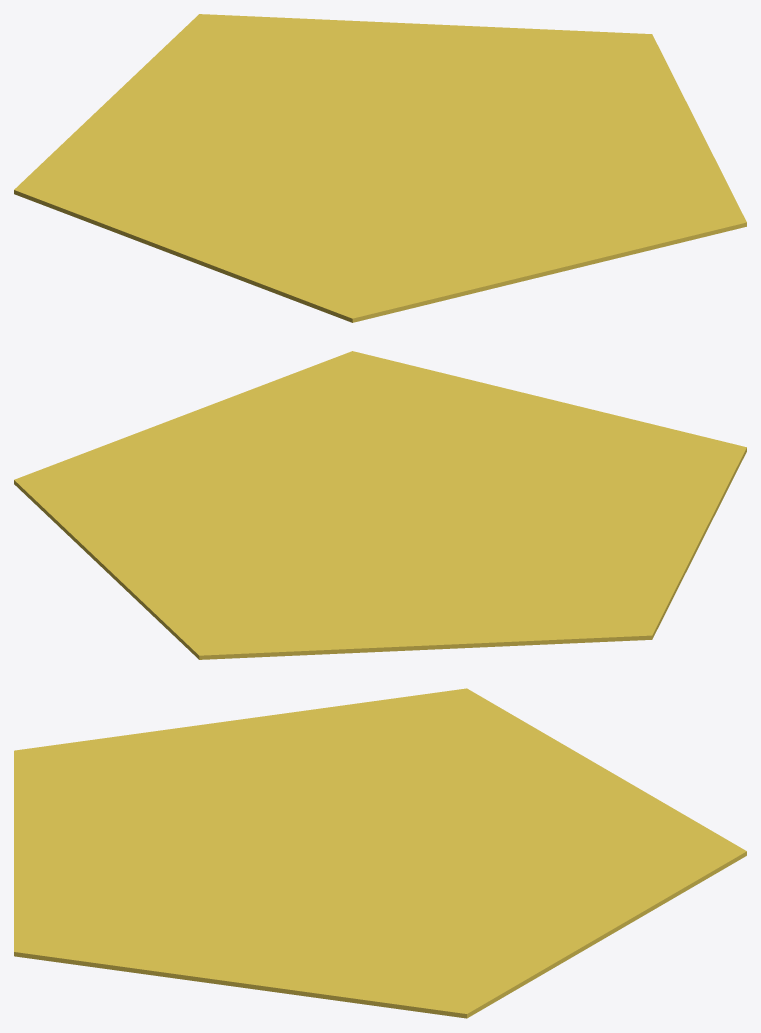
Rendered from Cutout2.fbx.
The picture shows the model from 3 angles, top to bottom: view 1: azimuth 30°, elevation 25°; view 2: azimuth 150°, elevation 25°; view 3: azimuth 270°, elevation 25°; orthographic projection. The views are drawn at different scales.
Visible parts, largest first — view 1: Cutout1; view 2: Cutout1; view 3: Cutout1.
Part boxes in pixels (box(x1,y1,x2,y2)): Cutout1: box(14, 14, 746, 322); Cutout1: box(14, 351, 746, 659); Cutout1: box(14, 688, 746, 1018).
Bounding box in the file's own units: 31.44 × 29.9 × 0.2009.
